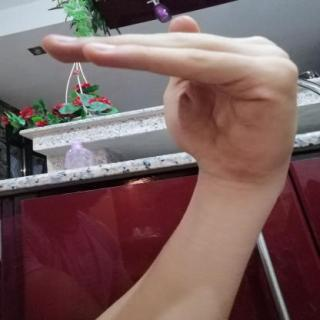KHAA: (29, 10, 308, 191)
